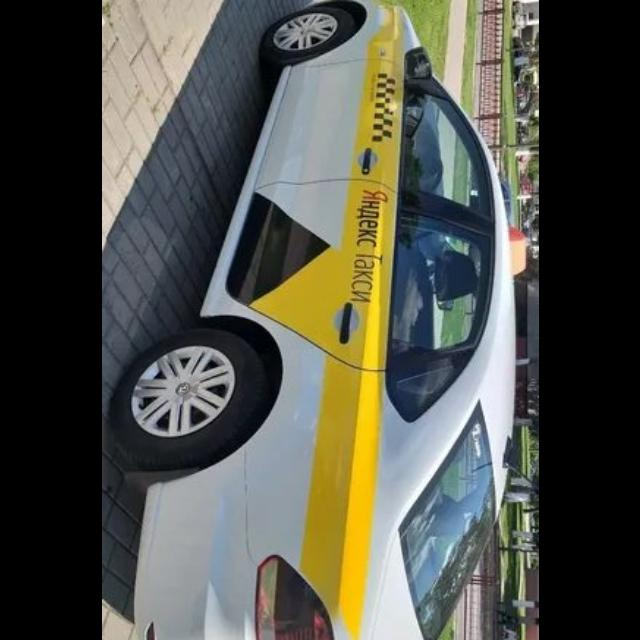taxi: (110, 1, 528, 640)
